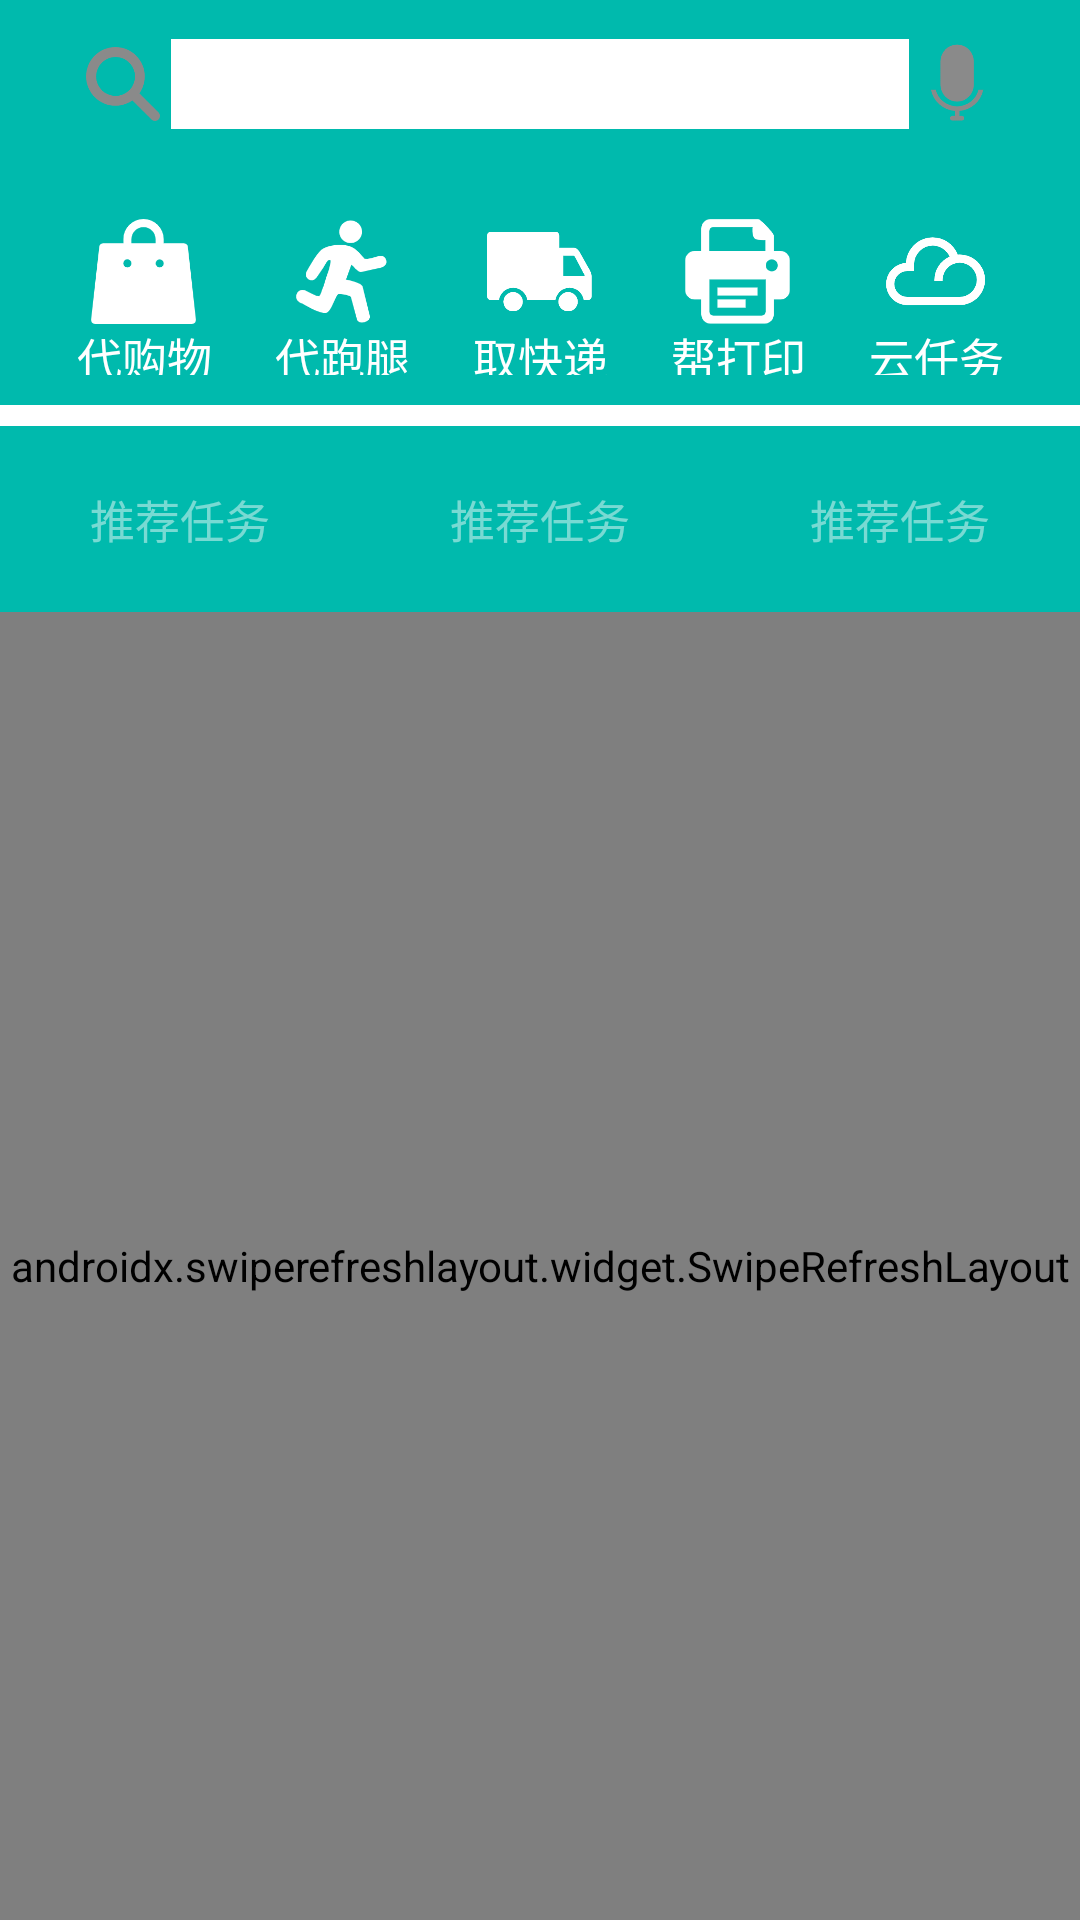

Point at icon controls on the screen. Image size 1080 × 1920, points as (x=x, y=y).
audio: (x=957, y=82)
serch: (x=123, y=84)
